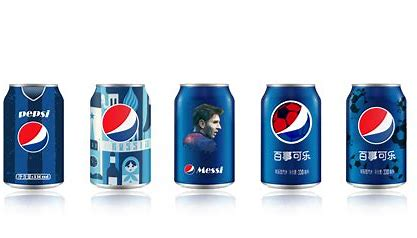Pepsi: (343, 81, 412, 194), (87, 82, 153, 193), (171, 82, 238, 190), (258, 82, 324, 190), (4, 82, 68, 191)
